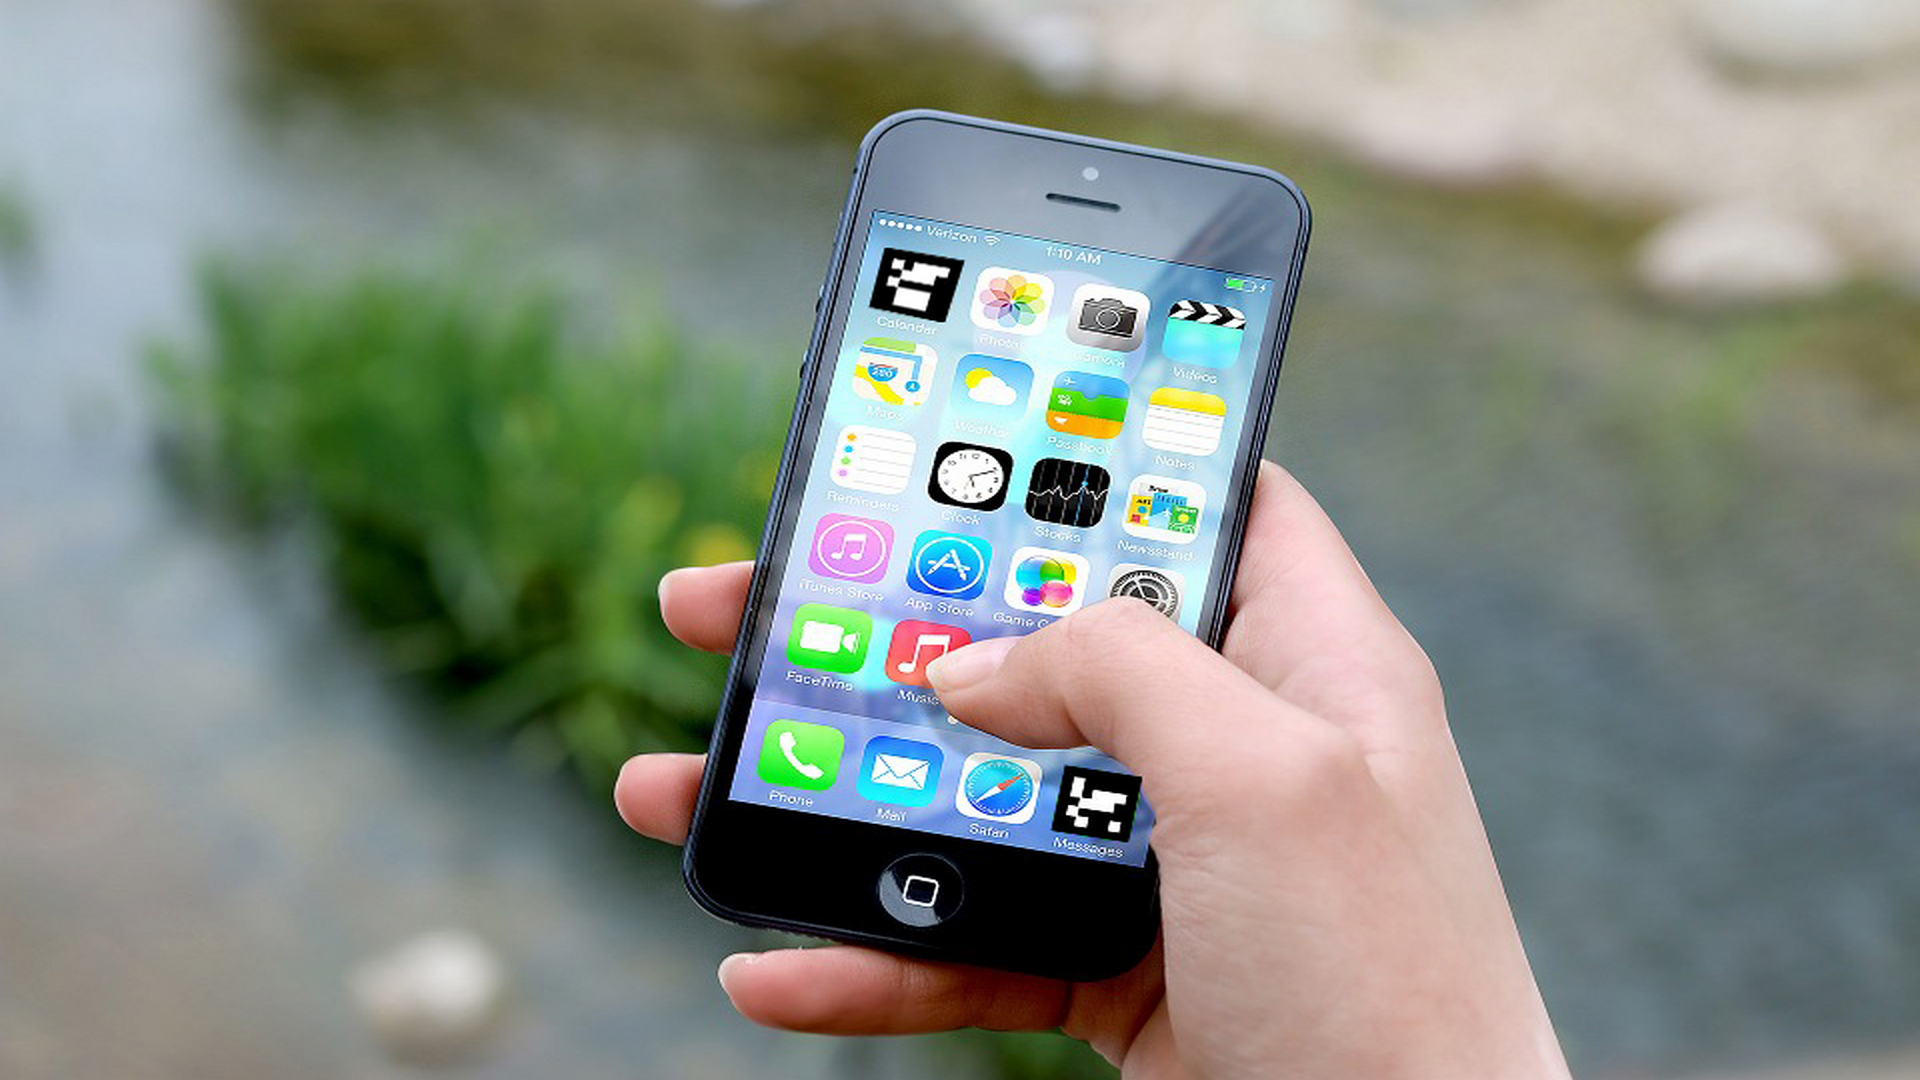marker: (1048, 761, 1146, 847), (866, 244, 967, 326)
